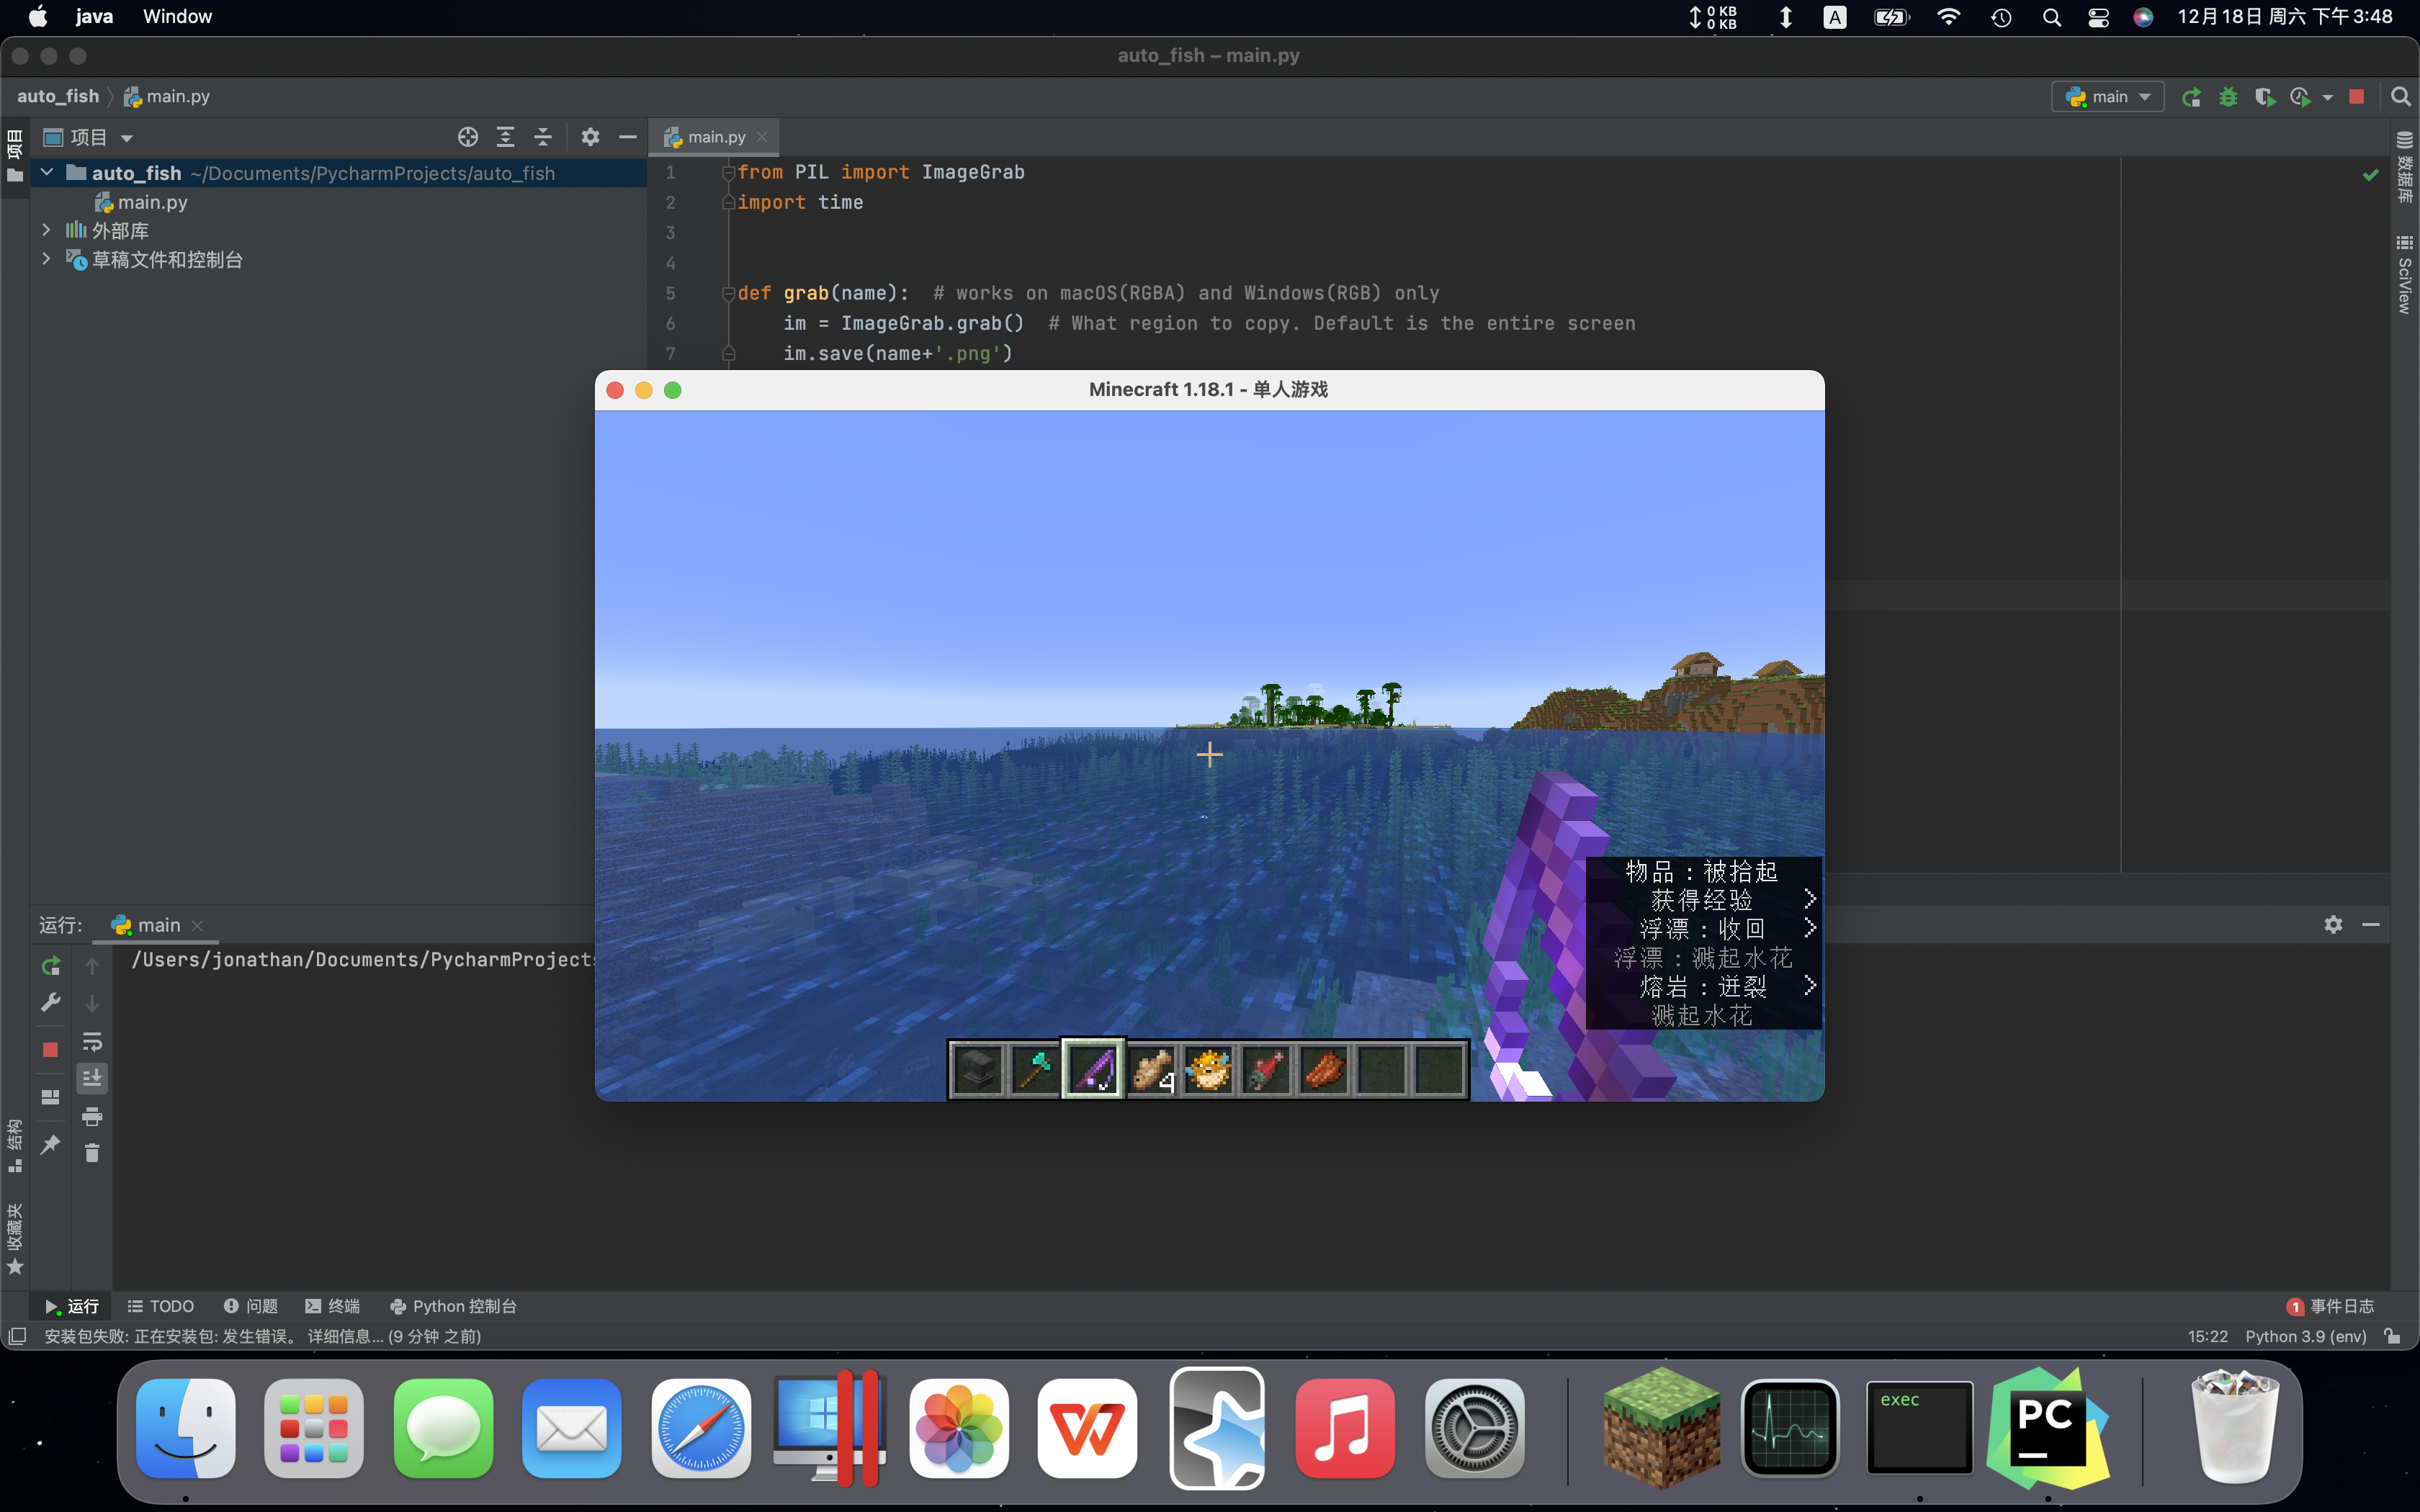inf: (1585, 857, 1824, 1028)
